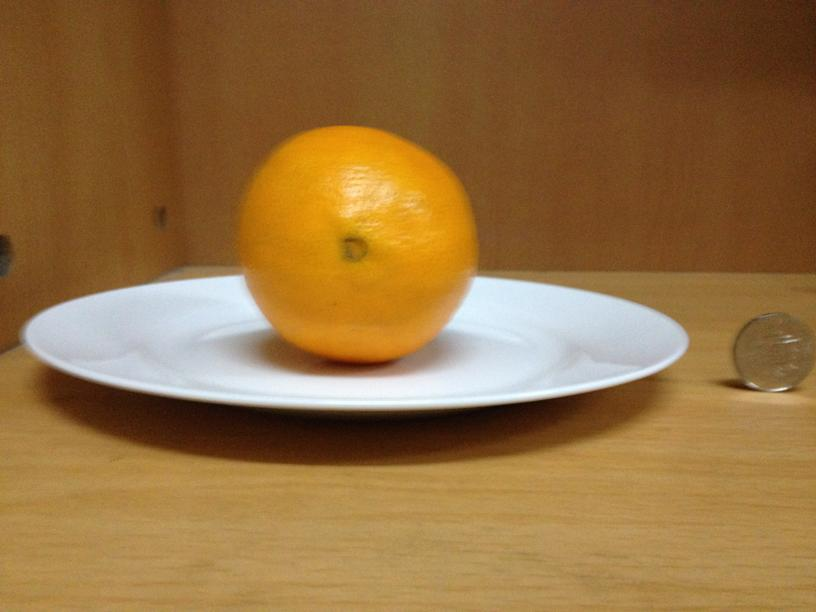coin: (731, 310, 812, 395)
orange: (238, 130, 480, 363)
